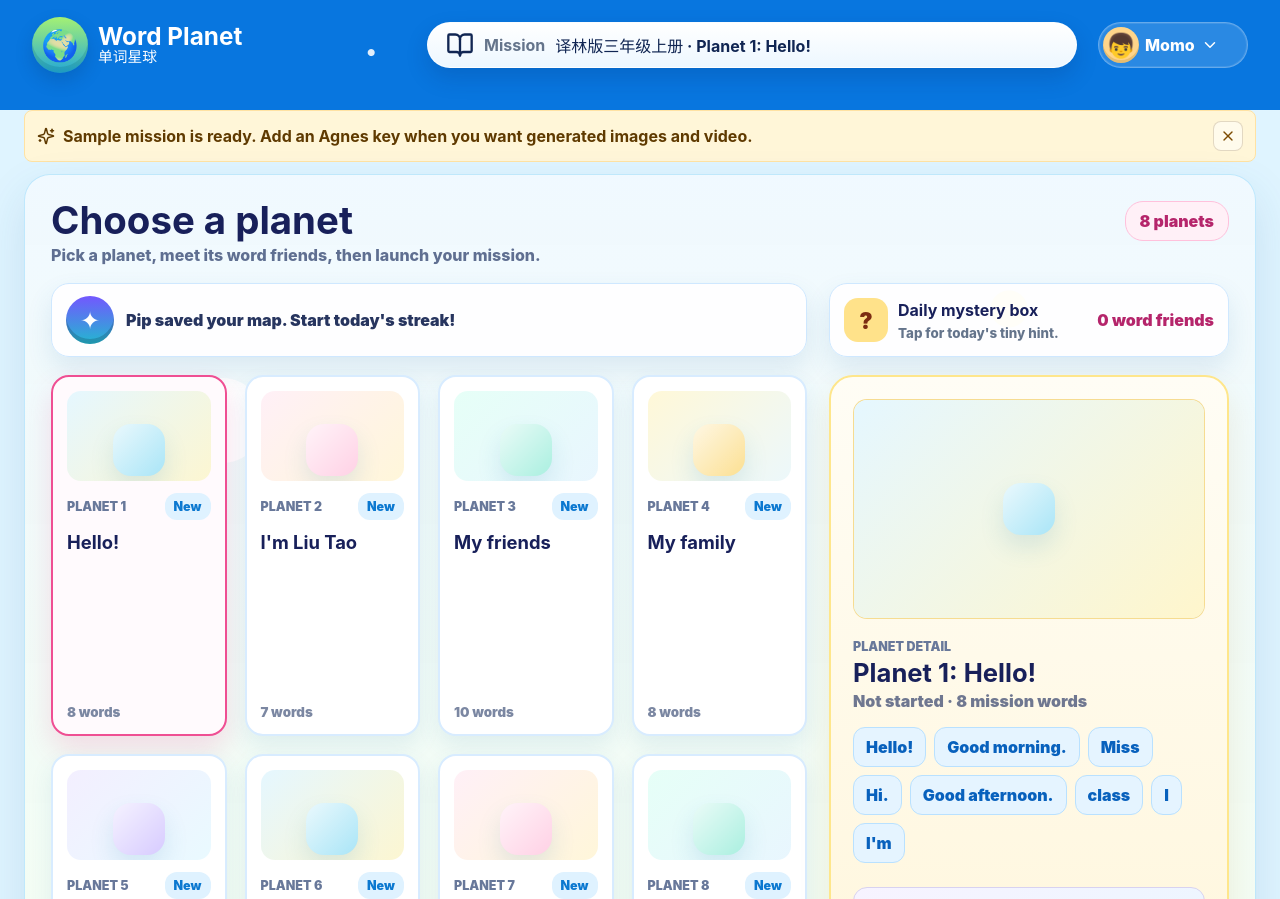
Test: kid lesson board › opens the style picker before starting a fresh unit lesson
What coordinates should you click on to do the following:
click the button "Planet 2 New I'm Liu Tao 7 words"
I would click on:
 (332, 556)
Its box is [244,375,420,736].
(page scrolled)
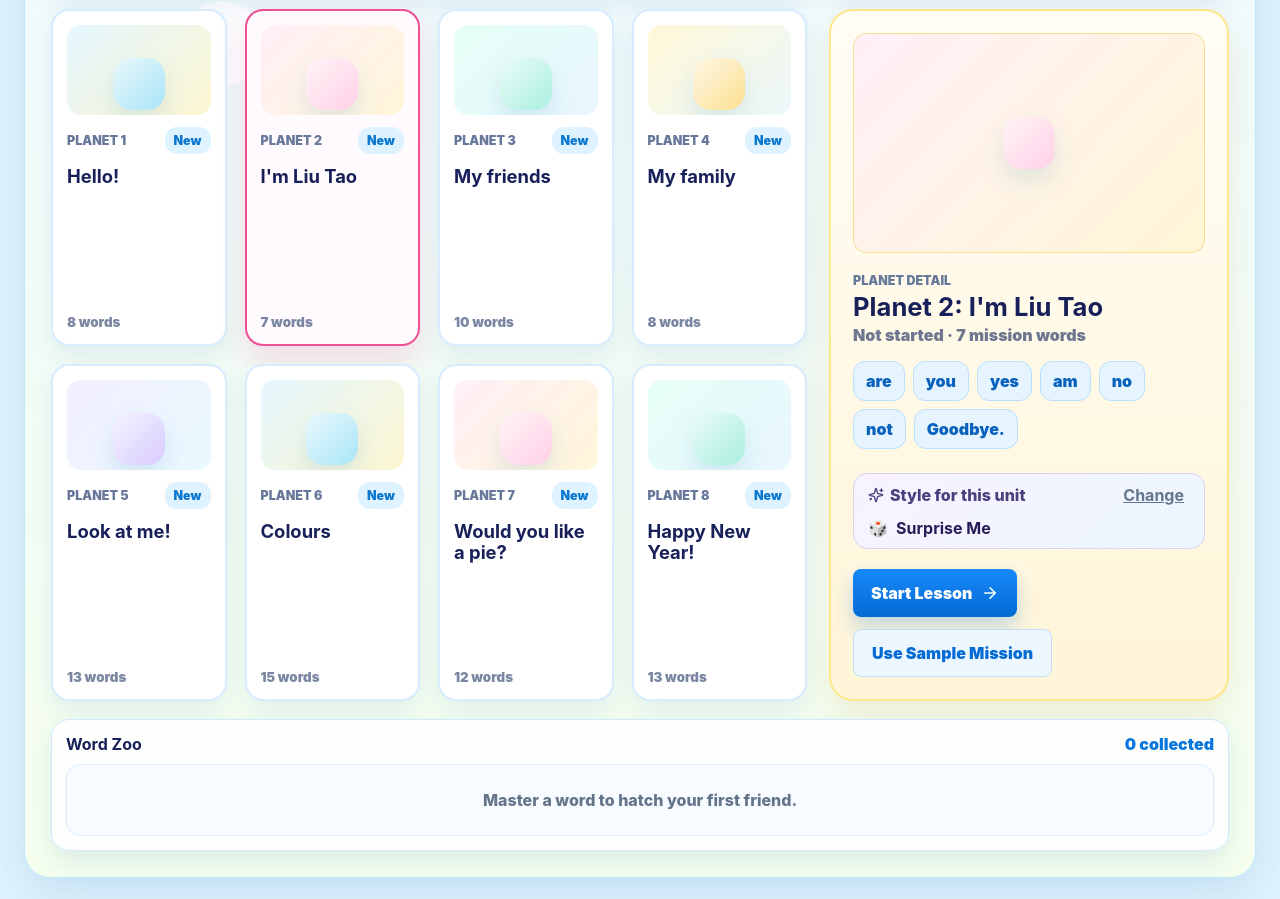
Check: the text "Planet detail" is shown, box [853,273,951,288]
Check: the text "are" is shown, box [853,361,905,401]
What coordinates should you click on to do the following:
click the button "Start Lesson"
I would click on:
 (935, 593)
Its box is [853,569,1016,617].
(page scrolled)
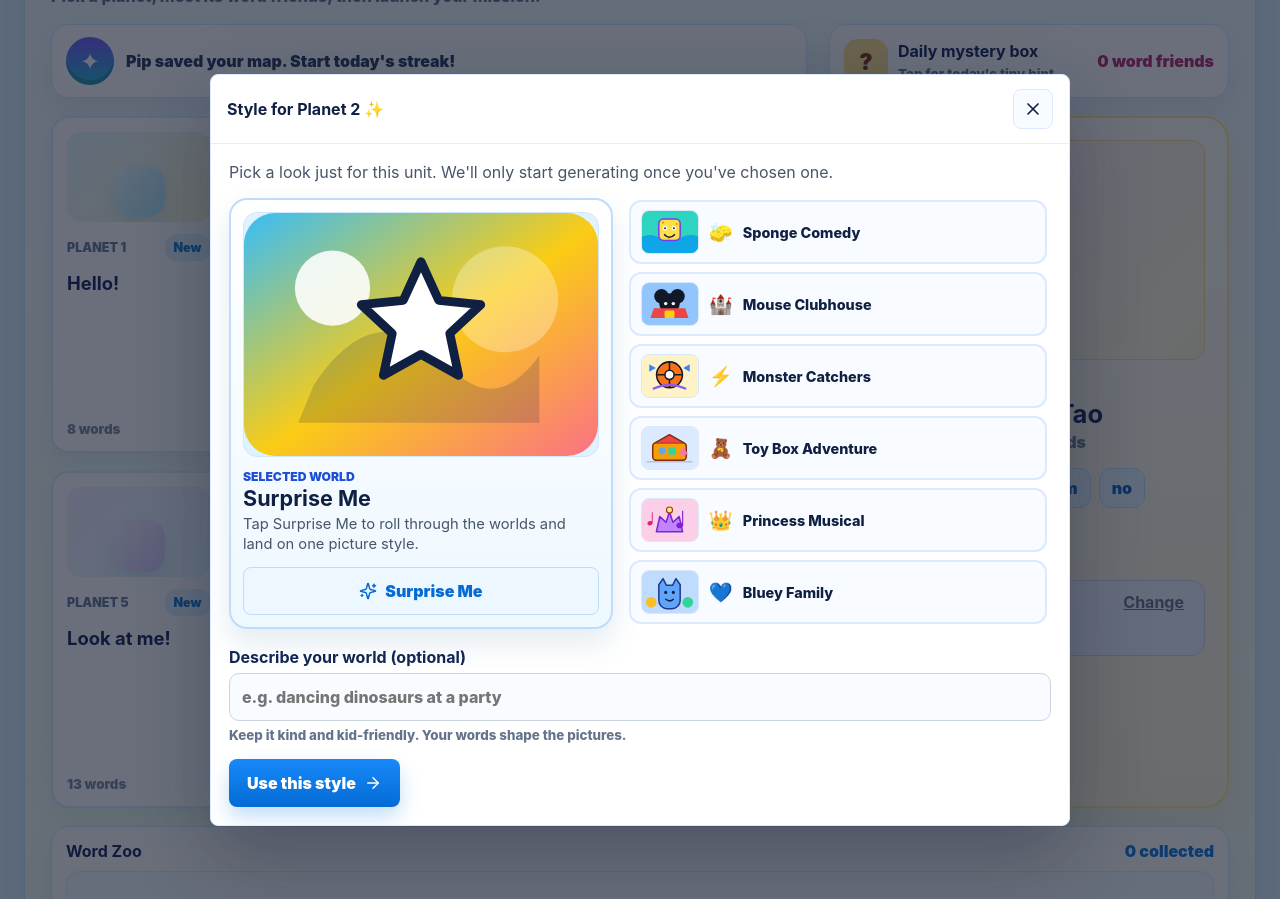
Check: the dialog shows "Style for", box [227,99,384,119]
